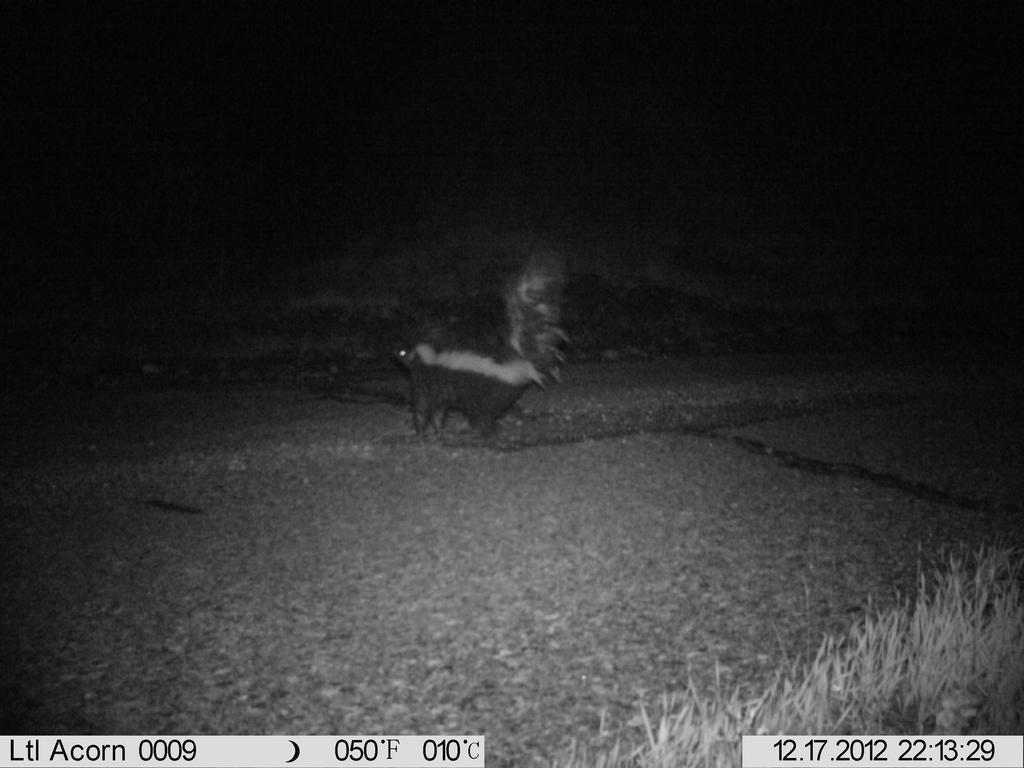skunk: (392, 253, 579, 442)
